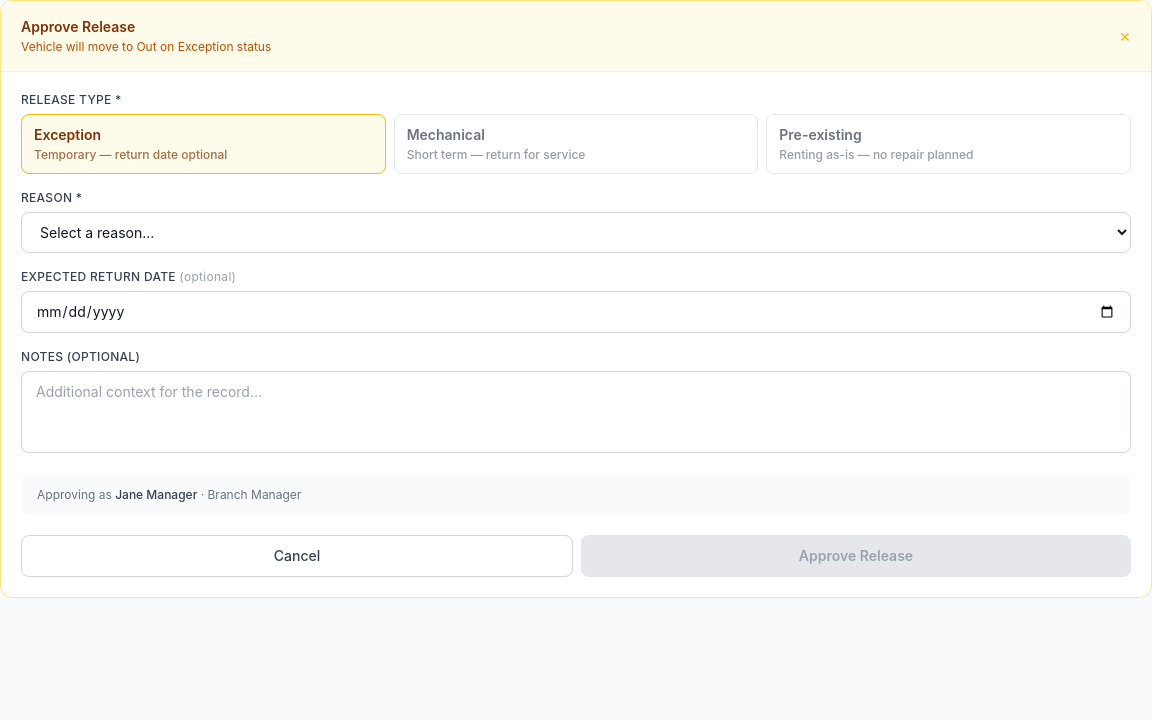
ReleaseForm — pre-existing path › switches to pre-existing reasons and hides expected return date
Click the button "Pre-existing Renting as-is — no repair planned": click(949, 144) top-left (766, 114), bottom-right (1131, 174)
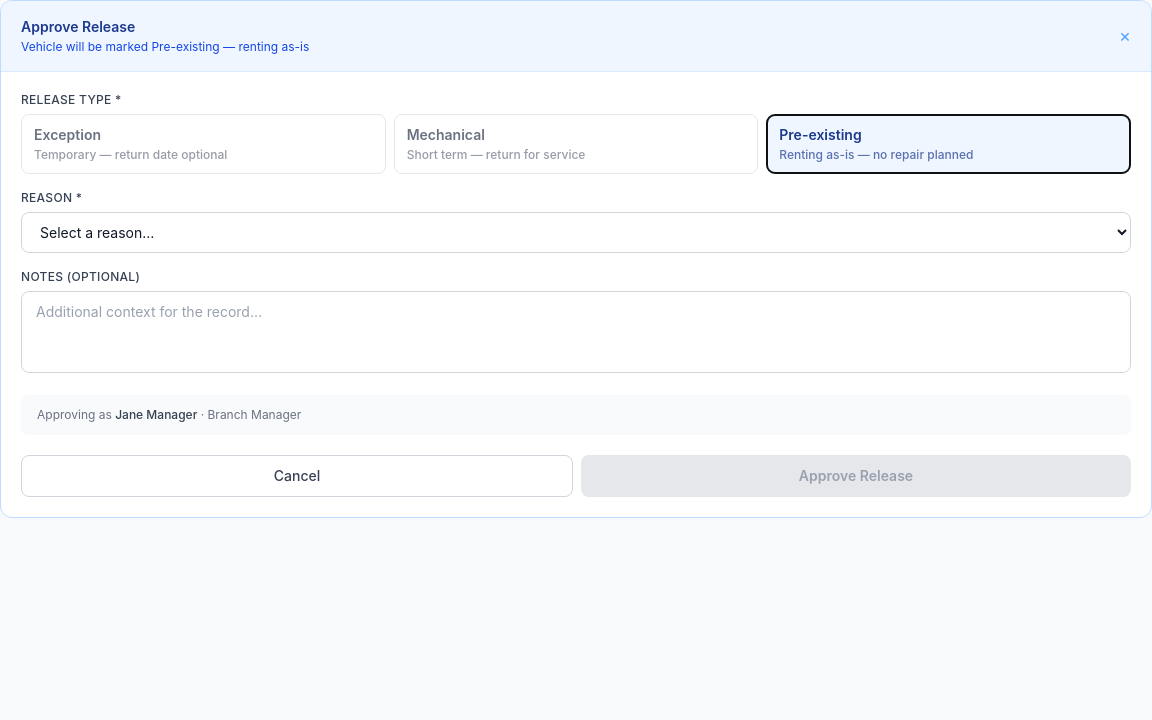
Check: the text "Vehicle will be marked Pre-existing — renting as-is" is shown, box top-left (21, 39), bottom-right (309, 55)
Check: the text "Expected Return Date" is gone
